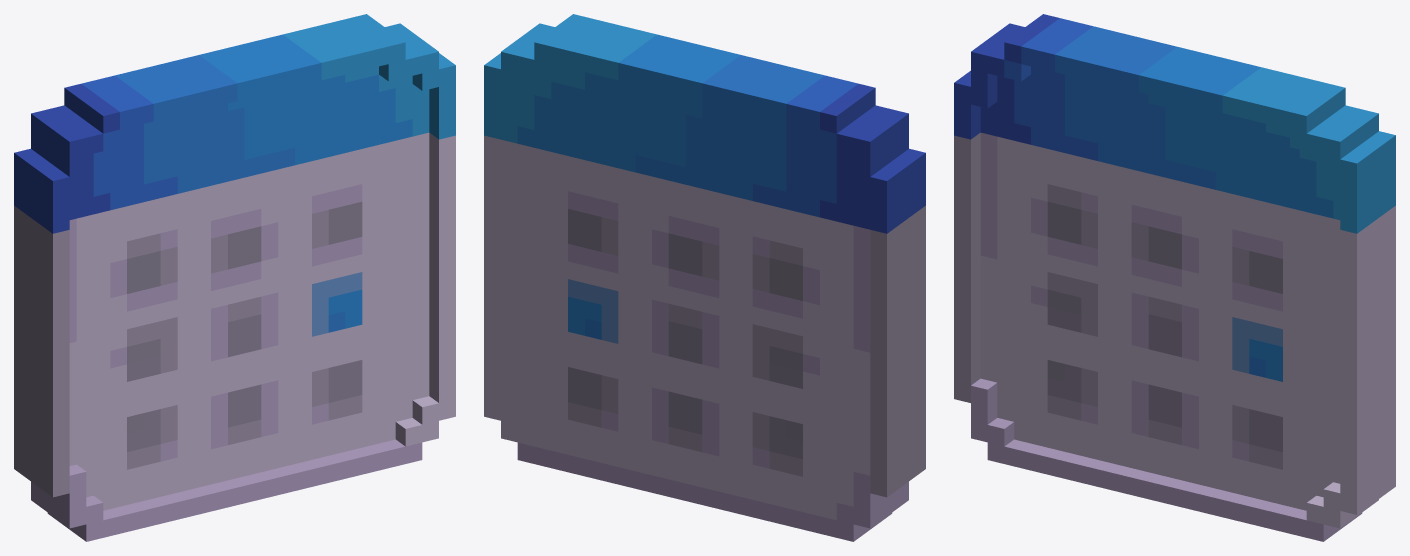
Rendered from calendar.glb.
3 views of the same model, side by side, from view 1: azimuth 30°, elevation 25°; view 2: azimuth 150°, elevation 25°; view 3: azimuth 330°, elevation 25° (orthographic).
Visible parts, largest first — view 1: prop; view 2: prop; view 3: prop.
Boxes of the visible parts, bbox=[...] form: prop: bbox=[14, 14, 455, 541]; prop: bbox=[484, 14, 925, 541]; prop: bbox=[954, 14, 1395, 541].
Size of the model in its own units: 16 by 16 by 2.67.
